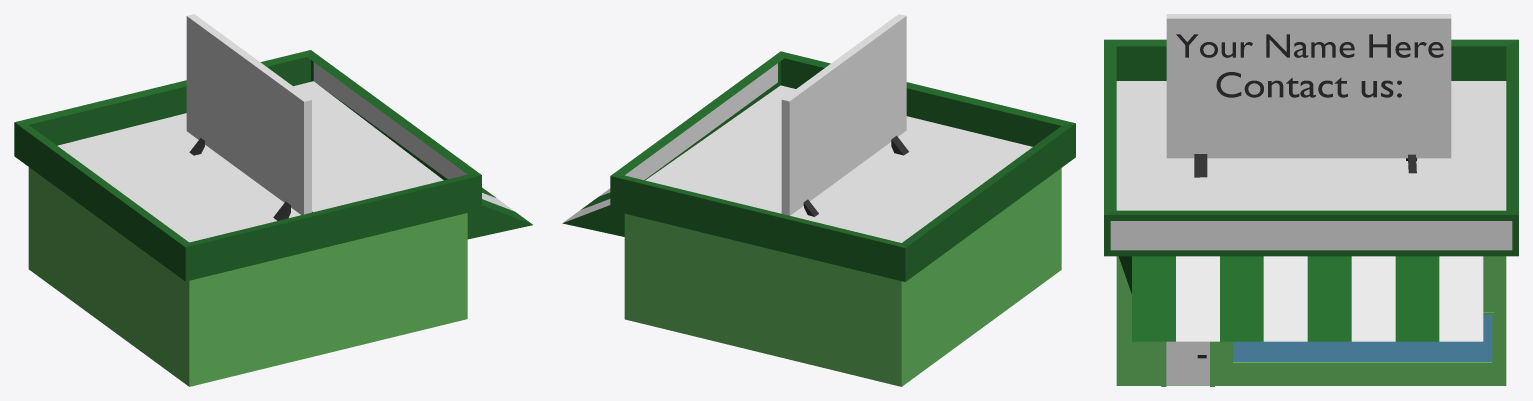
File: green Shop 2.fbx
3 views of the same model, side by side, from view 1: azimuth 30°, elevation 25°; view 2: azimuth 150°, elevation 25°; view 3: azimuth 270°, elevation 25° (orthographic). The views are drawn at different scales.
Parts seen in each view (by area): view 1: Cube.001; view 2: Cube.001; view 3: Cube.001.
Part boxes in pixels (left/top/right/bottom): Cube.001: left=14, top=14, right=532, bottom=386; Cube.001: left=562, top=14, right=1075, bottom=386; Cube.001: left=1104, top=14, right=1518, bottom=386.
Size of the model in its own units: 258 by 163 by 213.
